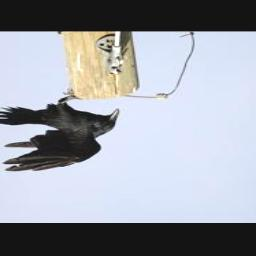Crow: (0, 90, 120, 174)
